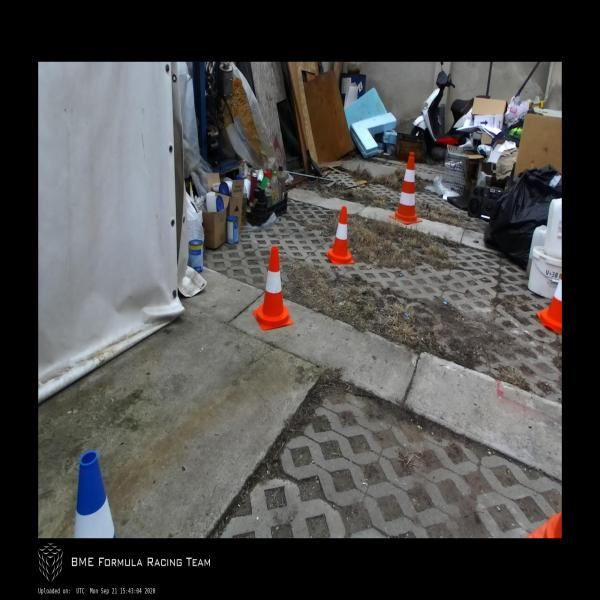blue_cone: (73, 450, 116, 538)
large_orange_cone: (390, 153, 422, 225)
orange_cone: (252, 247, 292, 332), (325, 206, 354, 264), (535, 273, 562, 334)
